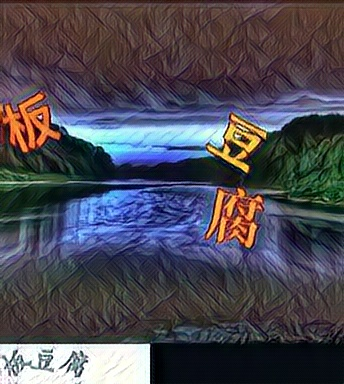B0E5: (1, 92, 66, 157)
B6B9: (205, 110, 270, 175)
B8AF: (199, 184, 264, 249)
